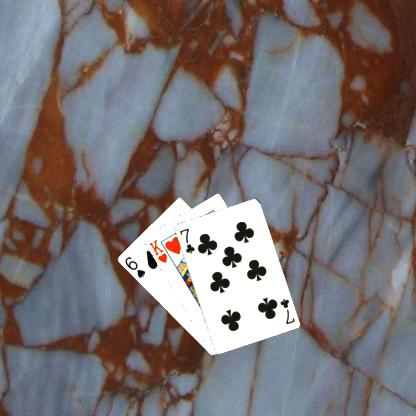6S: (122, 254, 146, 279)
7C: (176, 225, 196, 254), (277, 296, 296, 326)
KH: (146, 236, 168, 264)
